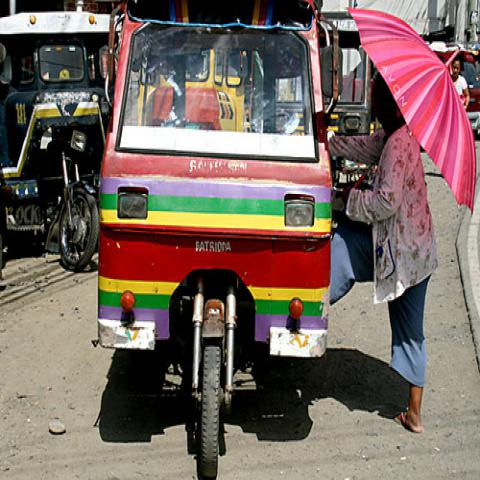car: (431, 50, 479, 140)
motorcycle: (36, 130, 100, 272)
